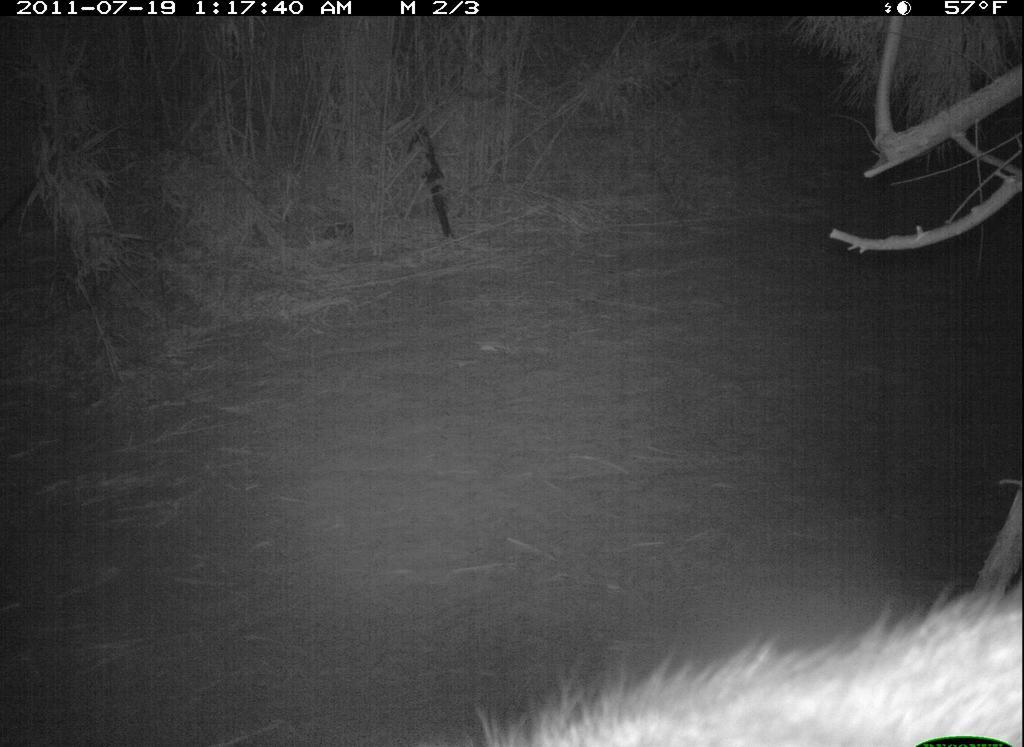raccoon: (424, 579, 1023, 747)
